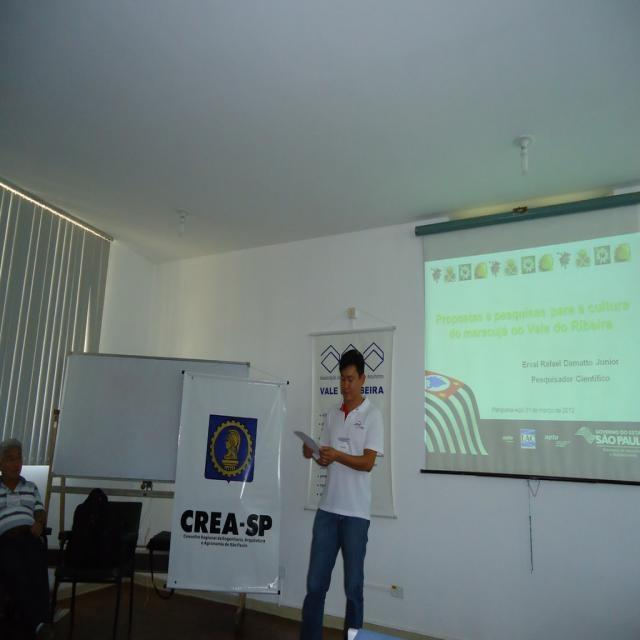Whiteboard: (48, 350, 251, 482)
